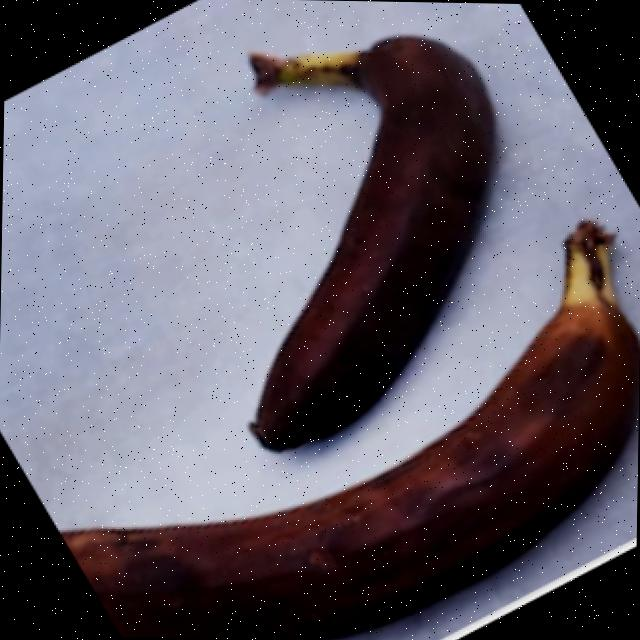Rotten: (0, 198, 640, 640), (169, 0, 507, 463)
